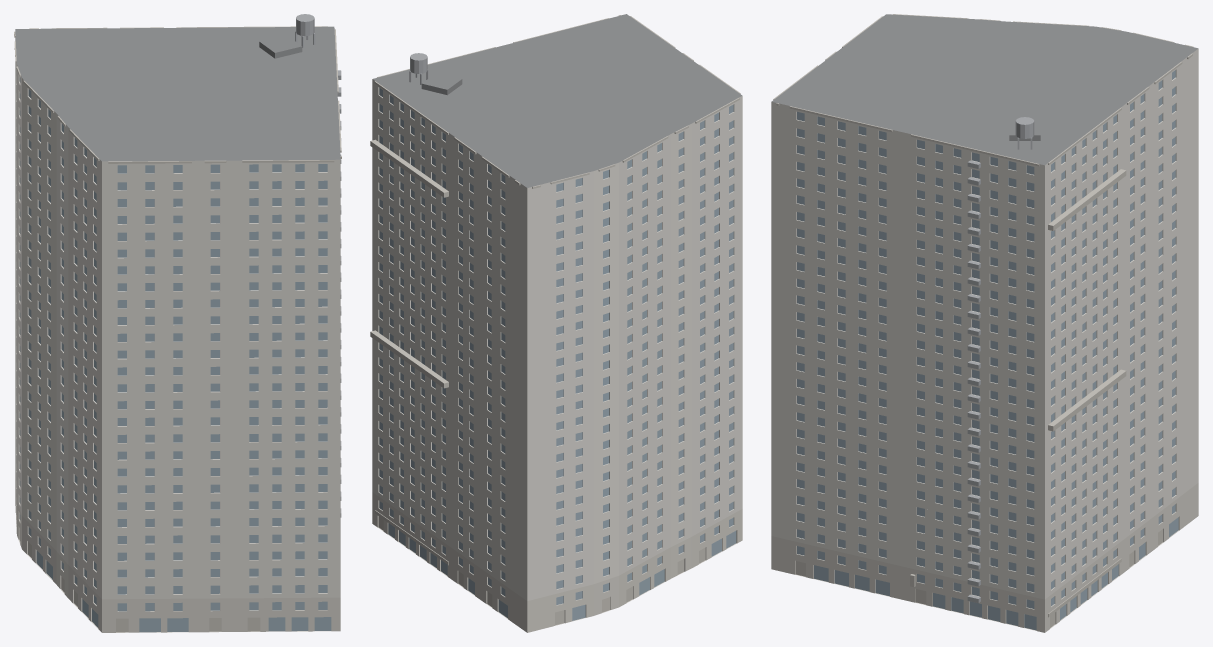
The model's file is doitt-131170__lod_0.glb.
3 views of the same model, side by side, from view 1: azimuth 30°, elevation 25°; view 2: azimuth 150°, elevation 25°; view 3: azimuth 270°, elevation 25° (orthographic). The views are drawn at different scales.
Bounding box in the file's own units: 68.88 × 105 × 82.15.
